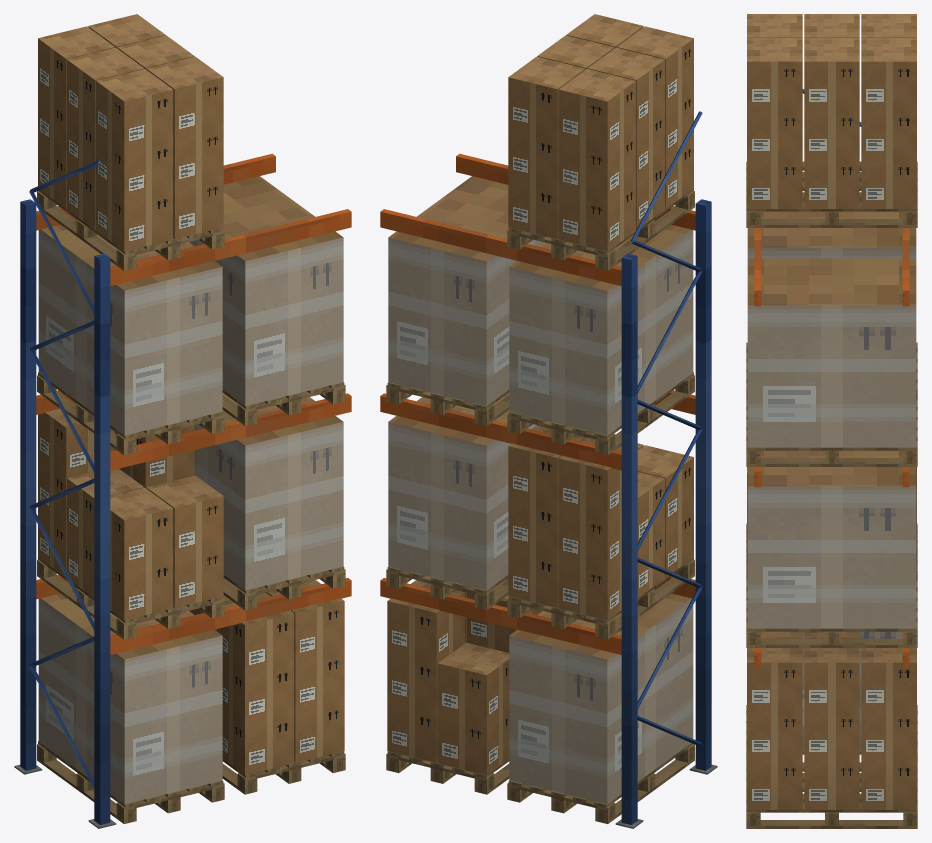
Rendered from rack_loaded.glb.
3 views of the same model, side by side, from view 1: azimuth 30°, elevation 25°; view 2: azimuth 150°, elevation 25°; view 3: azimuth 270°, elevation 25° (orthographic).
Visible parts, largest first — view 1: rack_loaded; view 2: rack_loaded; view 3: rack_loaded.
Boxes of the visible parts, x1=… form: rack_loaded: x1=14, y1=14, x2=351, y2=828; rack_loaded: x1=380, y1=14, x2=717, y2=828; rack_loaded: x1=746, y1=14, x2=917, y2=828.
Bounding box in the file's own units: 2.03 × 5.48 × 1.2.
1 material, 1 textured.
